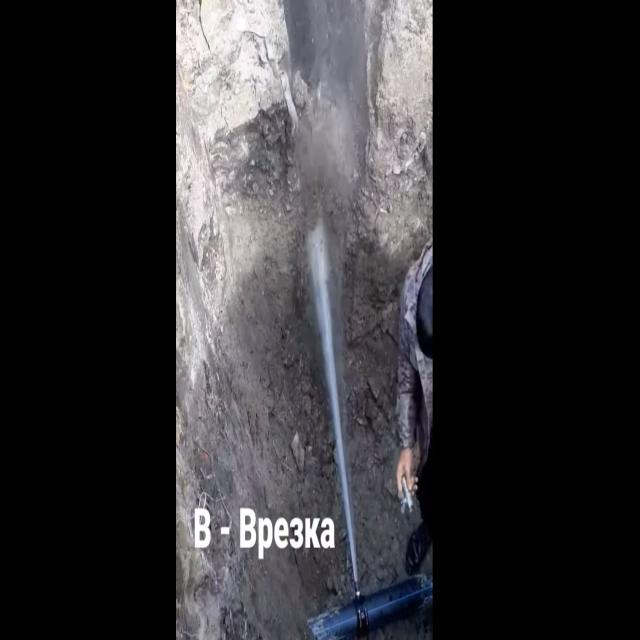leak: (308, 218, 360, 598)
